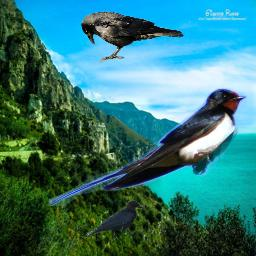Crow: (81, 11, 185, 63), (86, 200, 144, 241)
Swallow: (47, 88, 247, 206)
